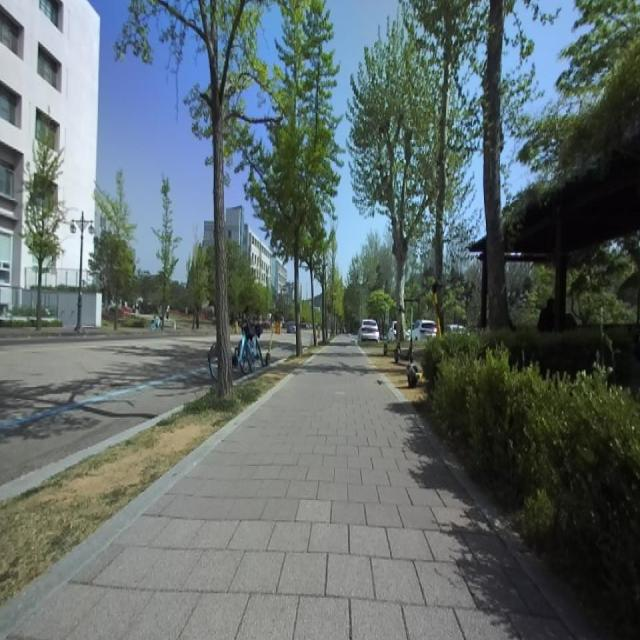sidewalk: (0, 336, 596, 639)
